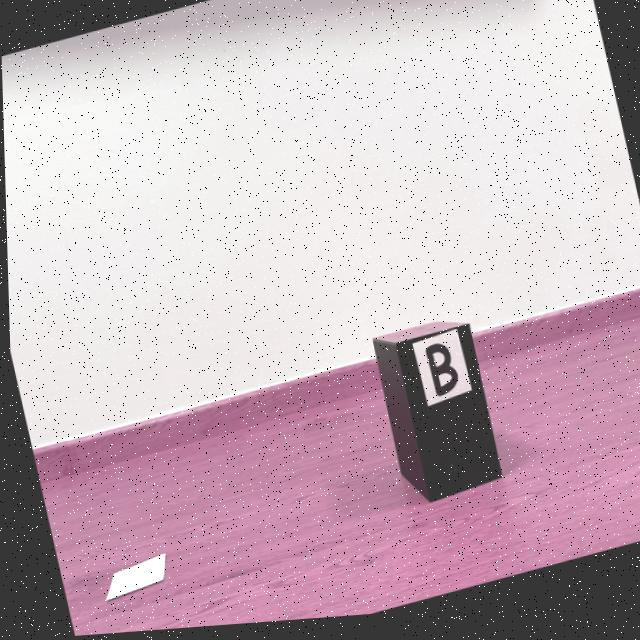B: (423, 349, 456, 403)
